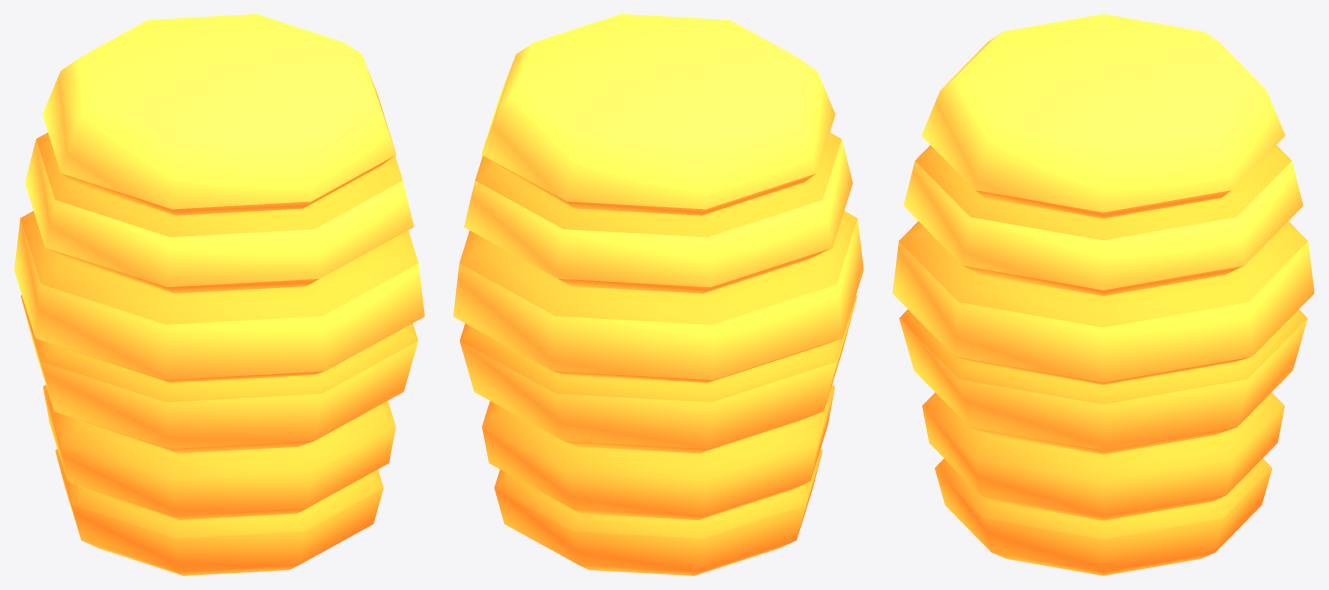
Rendered from gold_grip_012.glb.
3 renders of one model, left to right at view 1: azimuth 30°, elevation 25°; view 2: azimuth 150°, elevation 25°; view 3: azimuth 270°, elevation 25°, orthographic.
Visible parts, largest first — view 1: gold_grip_012; view 2: gold_grip_012; view 3: gold_grip_012.
Boxes of the visible parts, x1,y1,x2,y2 form: gold_grip_012: (14,14,424,575); gold_grip_012: (453,14,863,575); gold_grip_012: (892,14,1314,575).
Size of the model in its own units: 2.58 by 3 by 2.58.
Materials: 1 (1 with a texture image).
